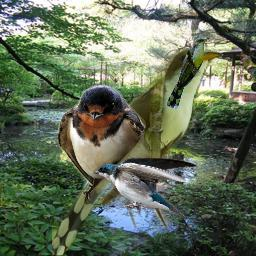Cuckoo: (52, 48, 221, 255), (167, 38, 210, 109)
Swallow: (58, 85, 168, 229), (93, 156, 197, 220)
